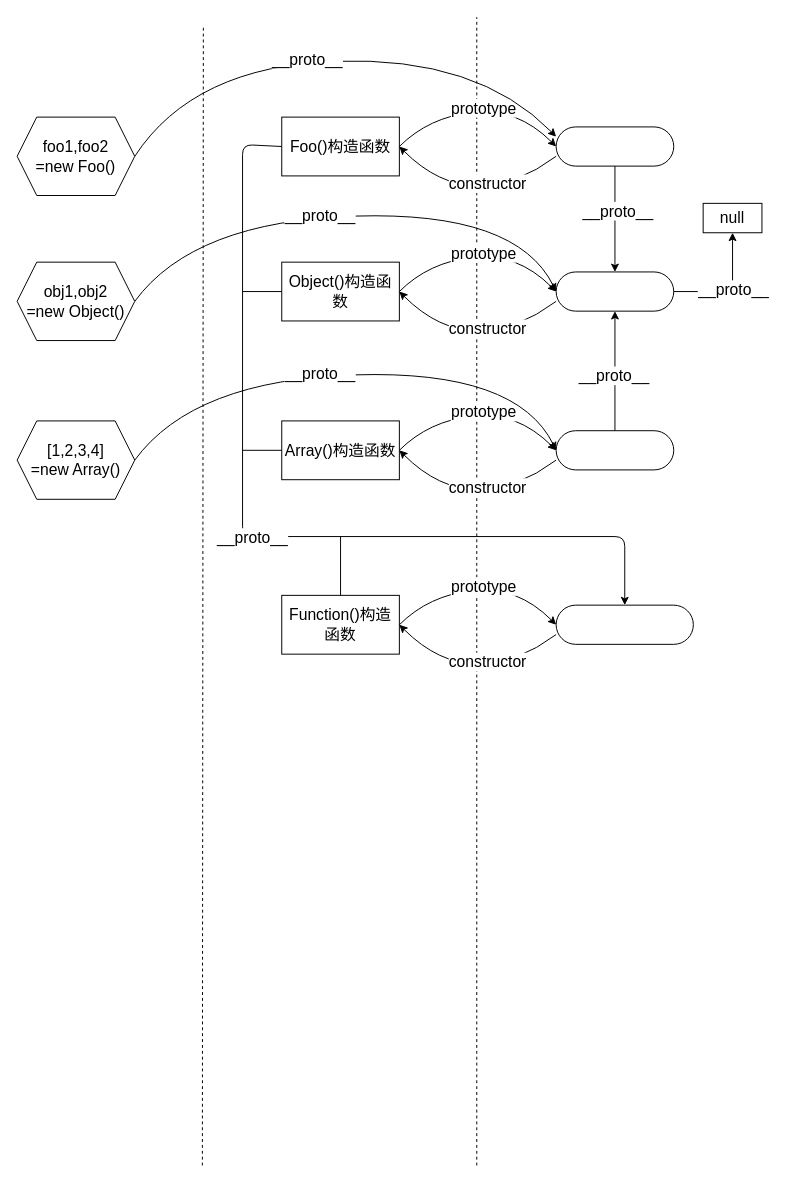
This 785x1184 diagram has some shape labels left out. The shapes that lost their labels are listed below. From the top down, each one's centre as x and y in pixels, then its label:
the point at 614,146: Foo.prototype
the point at 614,291: Object.prototype
the point at 614,450: Array.prototype
the point at 624,624: Function.prototype
